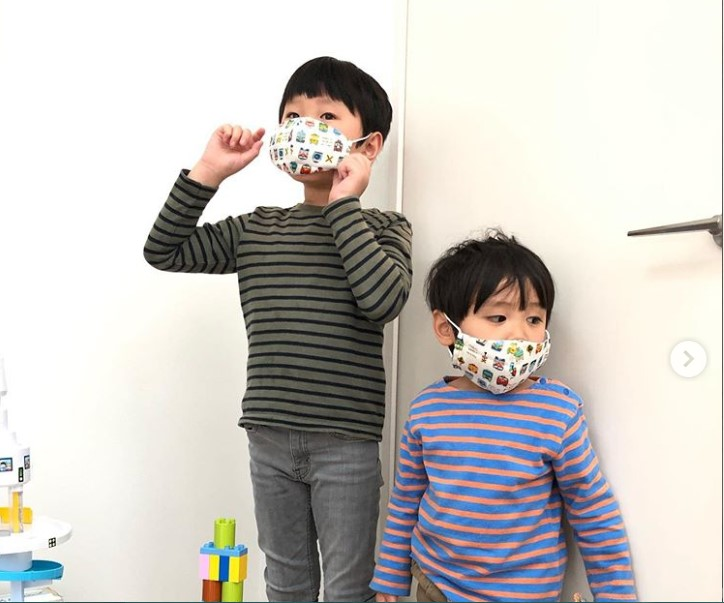face_with_mask: (422, 233, 557, 400), (259, 52, 389, 186)
